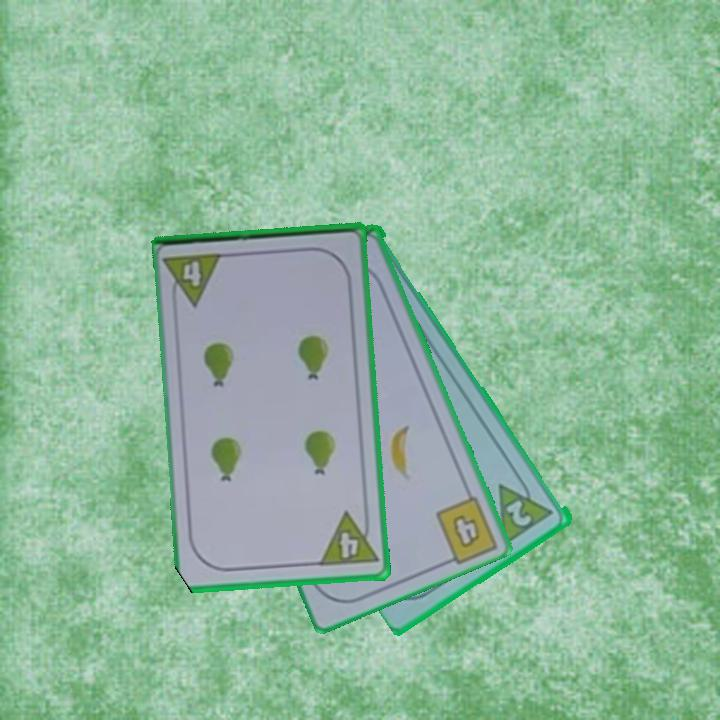2p: (503, 496, 536, 530)
4b: (449, 511, 484, 552)
4p: (316, 507, 381, 570), (162, 249, 227, 310)
